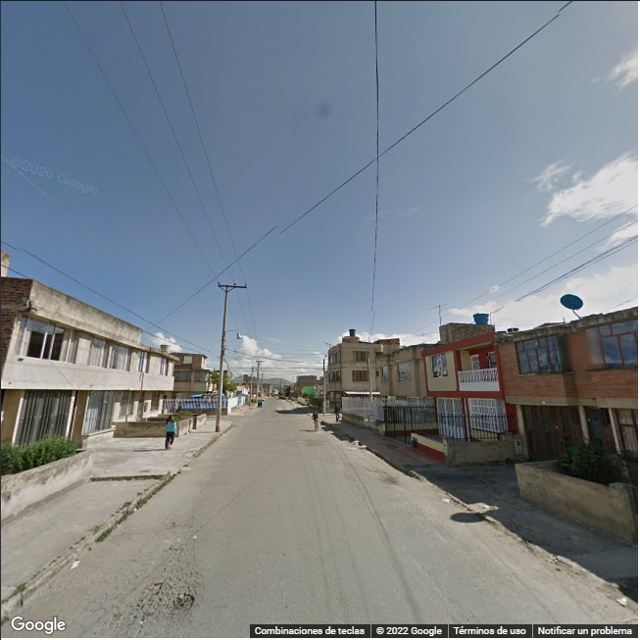D00: (388, 534, 451, 594)
D20: (125, 526, 198, 637)
